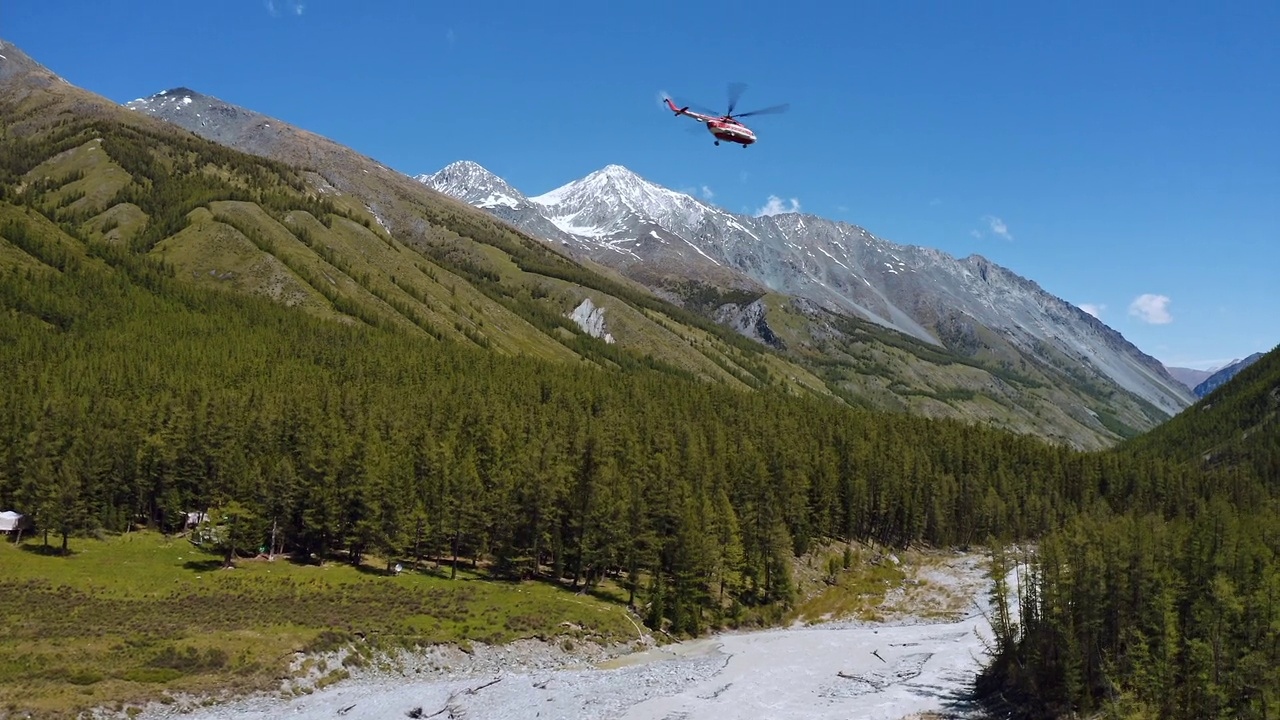heli: (653, 83, 793, 148)
